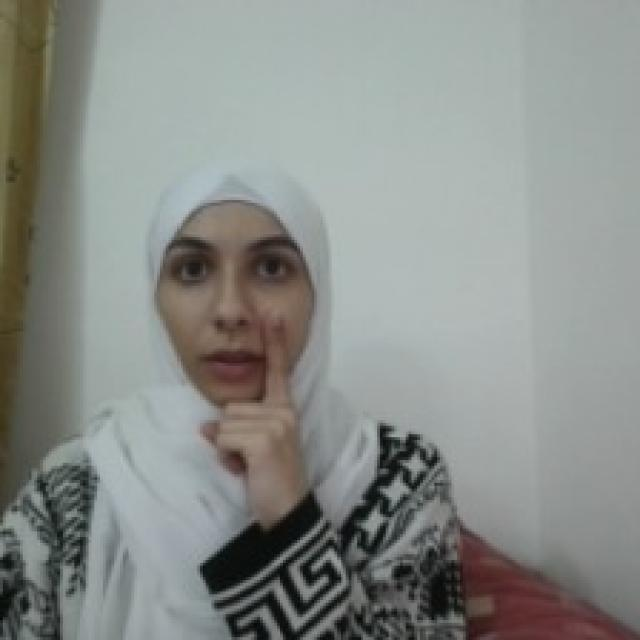mother: (194, 299, 311, 502)
